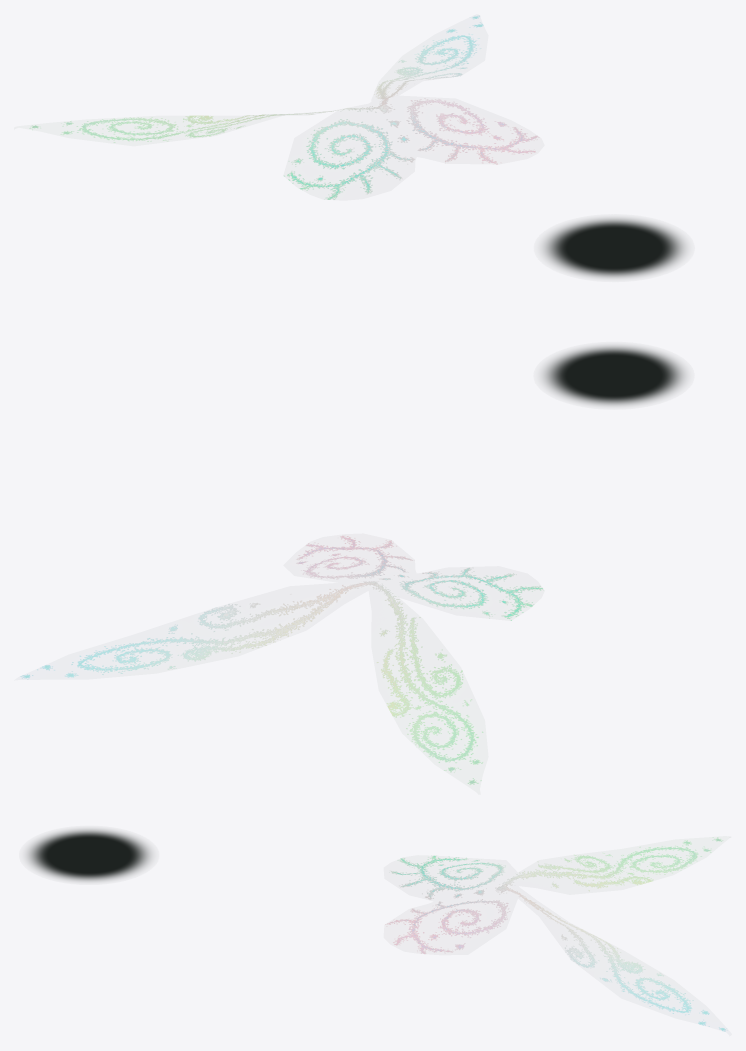
Rendered from model_chunk_3.glb.
3 renders of one model, top to bottom at view 1: azimuth 30°, elevation 25°; view 2: azimuth 150°, elevation 25°; view 3: azimuth 270°, elevation 25°, orthographic. The views are drawn at different scales.
Parts seen in each view (by area): view 1: Elly_wings, Ellie_shadow; view 2: Elly_wings, Ellie_shadow; view 3: Elly_wings, Ellie_shadow.
Boxes of the visible parts, x1,y1,x2,y2 form: Elly_wings: (29,16,539,199); Ellie_shadow: (543,218,685,277); Elly_wings: (20,536,542,784); Ellie_shadow: (543,346,685,405); Elly_wings: (385,837,725,1031); Ellie_shadow: (27,829,150,881).
Bounding box in the file's own units: 0.9366 × 0.1799 × 1.43.
1 material, 1 textured.
